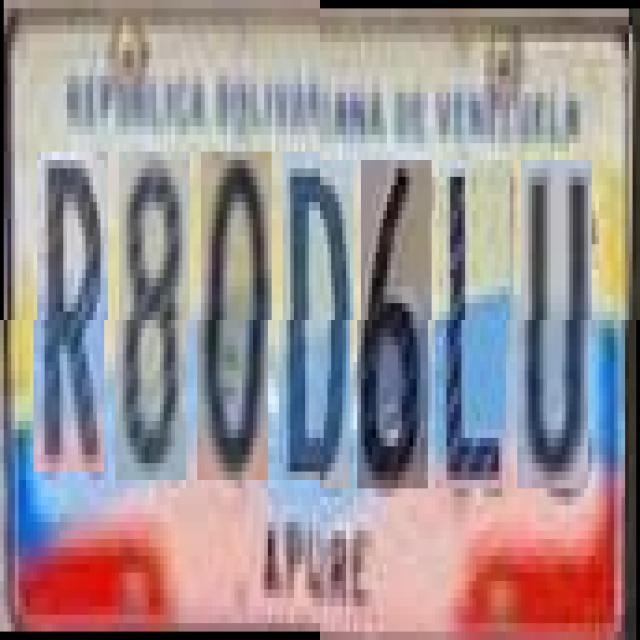6: (361, 160, 432, 488)
8: (120, 160, 190, 488)
D: (282, 160, 354, 488)
L: (440, 160, 510, 488)
O: (201, 160, 272, 488)
R: (37, 160, 108, 480)
U: (521, 160, 592, 488)
